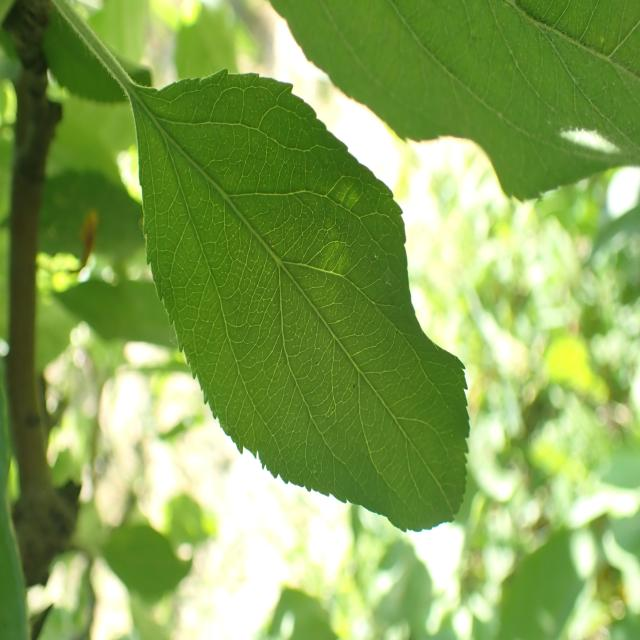healthy: (138, 69, 470, 533), (267, 0, 640, 204)
